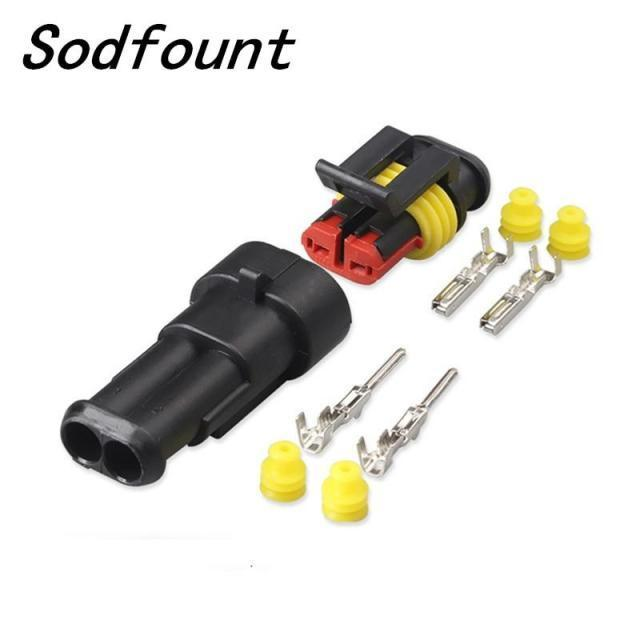connector: (302, 126, 489, 284)
